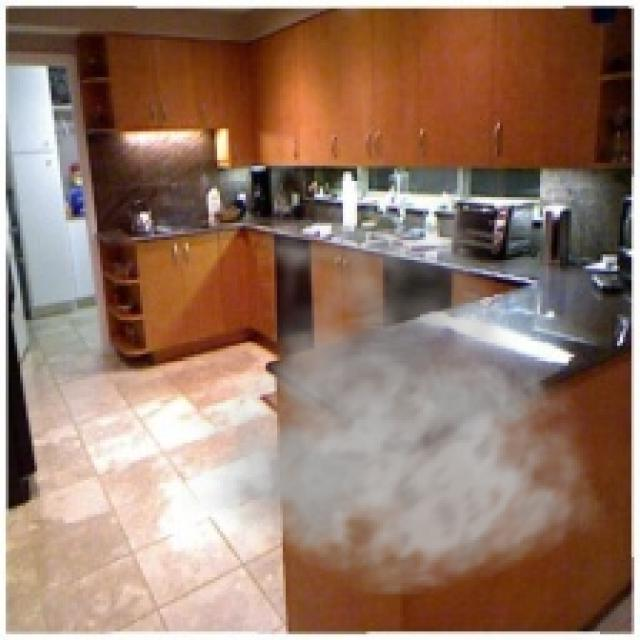Smoke: (180, 182, 606, 598)
